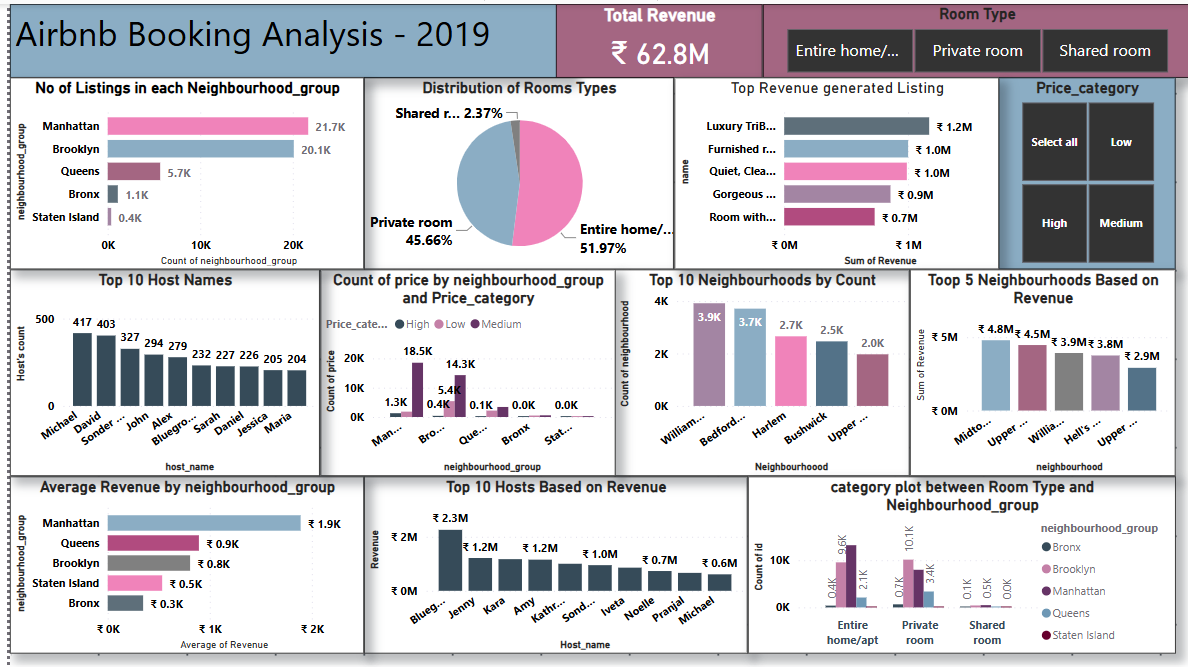

What the dashboard file says about the page in this screenshot:
{"tool":"powerbi","page":{"name":"Page 1","canvas":[1280,720],"ordinal":0},"visuals":[{"type":"pieChart","title":"Distribution of Rooms Types","fields":{"Category":["Airbnb NYC 2019.room_type"],"Y":["Airbnb NYC 2019.room_type"]},"box":[384,80,336,208],"z":0},{"type":"clusteredColumnChart","title":"Top 10 Hosts Based on Revenue","fields":{"Category":["Airbnb NYC 2019.host_name"],"Y":["Airbnb NYC 2019.Revenue"]},"box":[384,512,416,192],"z":1000},{"type":"columnChart","title":"Top 10 Neighbourhoods by Count","fields":{"Category":["Airbnb NYC 2019.neighbourhood"],"Y":["Airbnb NYC 2019.neighbourhood"]},"box":[656,288,320,224],"z":2000},{"type":"clusteredColumnChart","title":"category plot between Room Type and Neighbourhood_group","fields":{"Category":["Airbnb NYC 2019.room_type"],"Series":["Airbnb NYC 2019.neighbourhood_group"],"Y":["Airbnb NYC 2019.id"]},"box":[800,512,464,192],"z":3000},{"type":"clusteredBarChart","title":"Average Revenue by neighbourhood_group","fields":{"Category":["Airbnb NYC 2019.neighbourhood_group"],"Y":["Airbnb NYC 2019.Revenue"]},"box":[0,512,384,192],"z":4000},{"type":"clusteredColumnChart","fields":{"Y":["Airbnb NYC 2019.price"],"Category":["Airbnb NYC 2019.neighbourhood_group"],"Series":["Airbnb NYC 2019.Price_category"]},"box":[336,288,320,224],"z":5000},{"type":"textbox","box":[0,0,608,80],"z":6000},{"type":"columnChart","title":"Top 10 Host Names","fields":{"Category":["Airbnb NYC 2019.host_name"],"Y":["Airbnb NYC 2019.calculated_host_listings_count"]},"box":[0,288,336,224],"z":7000},{"type":"clusteredBarChart","title":"No of Listings in each Neighbourhood_group","fields":{"Category":["Airbnb NYC 2019.neighbourhood_group"],"Y":["Airbnb NYC 2019.neighbourhood_group"]},"box":[0,80,384,208],"z":8000},{"type":"card","title":"Total Revenue","fields":{"Values":["Airbnb NYC 2019.Revenue"]},"box":[592,0,224,80],"z":9000},{"type":"slicer","title":"Room Type","fields":{"Values":["Airbnb NYC 2019.room_type"]},"box":[816,0,464,80],"z":10000},{"type":"slicer","title":"Price_category","fields":{"Values":["Airbnb NYC 2019.Price_category"]},"box":[1072,80,192,208],"z":11000},{"type":"clusteredBarChart","title":"Top Revenue generated Listing","fields":{"Category":["Airbnb NYC 2019.name"],"Y":["Airbnb NYC 2019.Revenue"]},"box":[720,80,352,208],"z":12000},{"type":"clusteredColumnChart","title":"Toop 5 Neighbourhoods Based on Revenue","fields":{"Category":["Airbnb NYC 2019.neighbourhood"],"Y":["Airbnb NYC 2019.Revenue"]},"box":[976,288,288,224],"z":13000}]}

Visuals, with their boxes in screenshot pixels (x1, y1, x2, y2), scaled from the page's 1280x720 canvas onto the 1188x667 screenshot:
"Distribution of Rooms Types" pieChart: rect(356, 74, 668, 267)
"Top 10 Hosts Based on Revenue" clusteredColumnChart: rect(356, 474, 742, 652)
"Top 10 Neighbourhoods by Count" columnChart: rect(609, 267, 906, 474)
"category plot between Room Type and Neighbourhood_group" clusteredColumnChart: rect(742, 474, 1173, 652)
"Average Revenue by neighbourhood_group" clusteredBarChart: rect(0, 474, 356, 652)
clusteredColumnChart - Airbnb NYC 2019.price x Airbnb NYC 2019.neighbourhood_group: rect(312, 267, 609, 474)
textbox: rect(0, 0, 564, 74)
"Top 10 Host Names" columnChart: rect(0, 267, 312, 474)
"No of Listings in each Neighbourhood_group" clusteredBarChart: rect(0, 74, 356, 267)
"Total Revenue" card: rect(549, 0, 757, 74)
"Room Type" slicer: rect(757, 0, 1187, 74)
"Price_category" slicer: rect(995, 74, 1173, 267)
"Top Revenue generated Listing" clusteredBarChart: rect(668, 74, 995, 267)
"Toop 5 Neighbourhoods Based on Revenue" clusteredColumnChart: rect(906, 267, 1173, 474)
